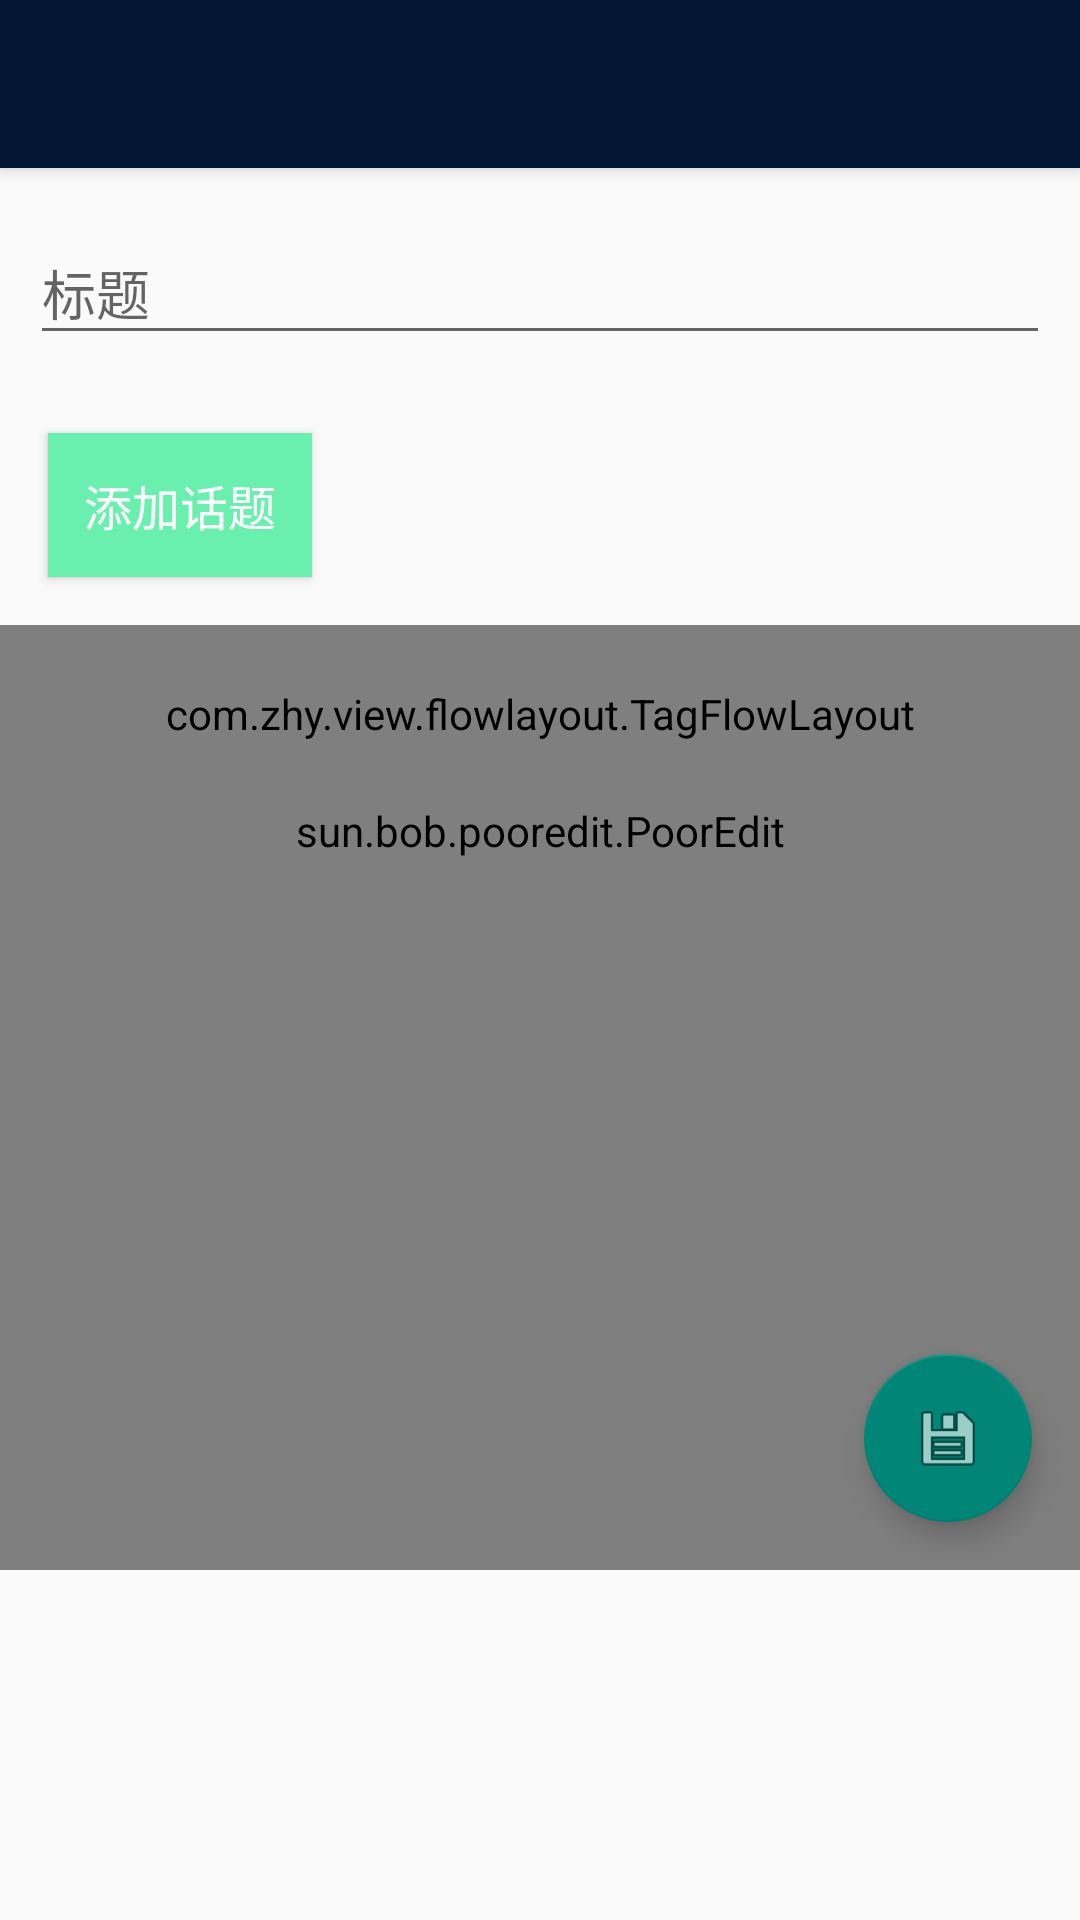

Point at icon controls on the screen. Image size 1080×1920, points as [x,y].
save: [948,1438]
